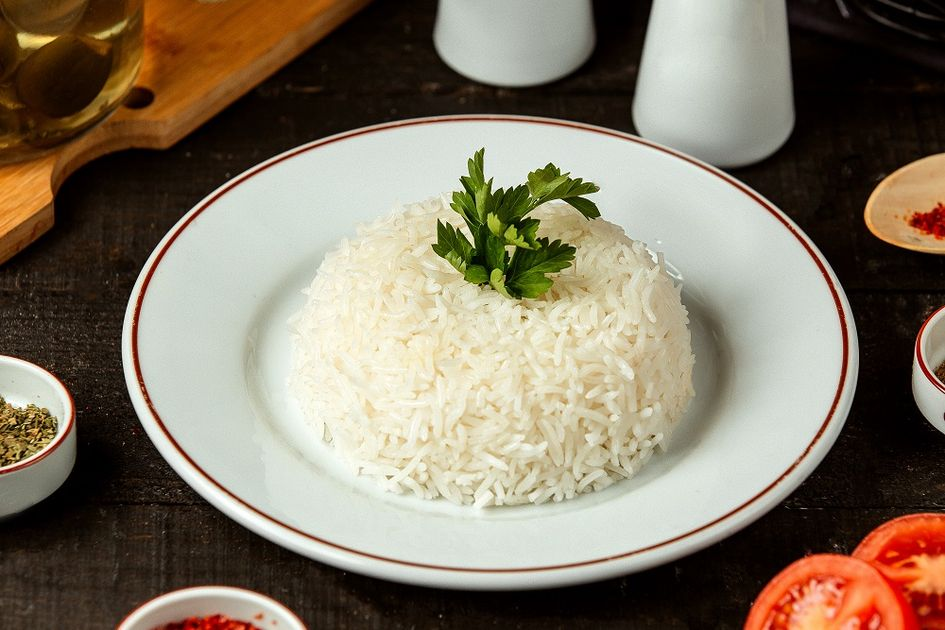Nasi Putih: (263, 152, 729, 521)
